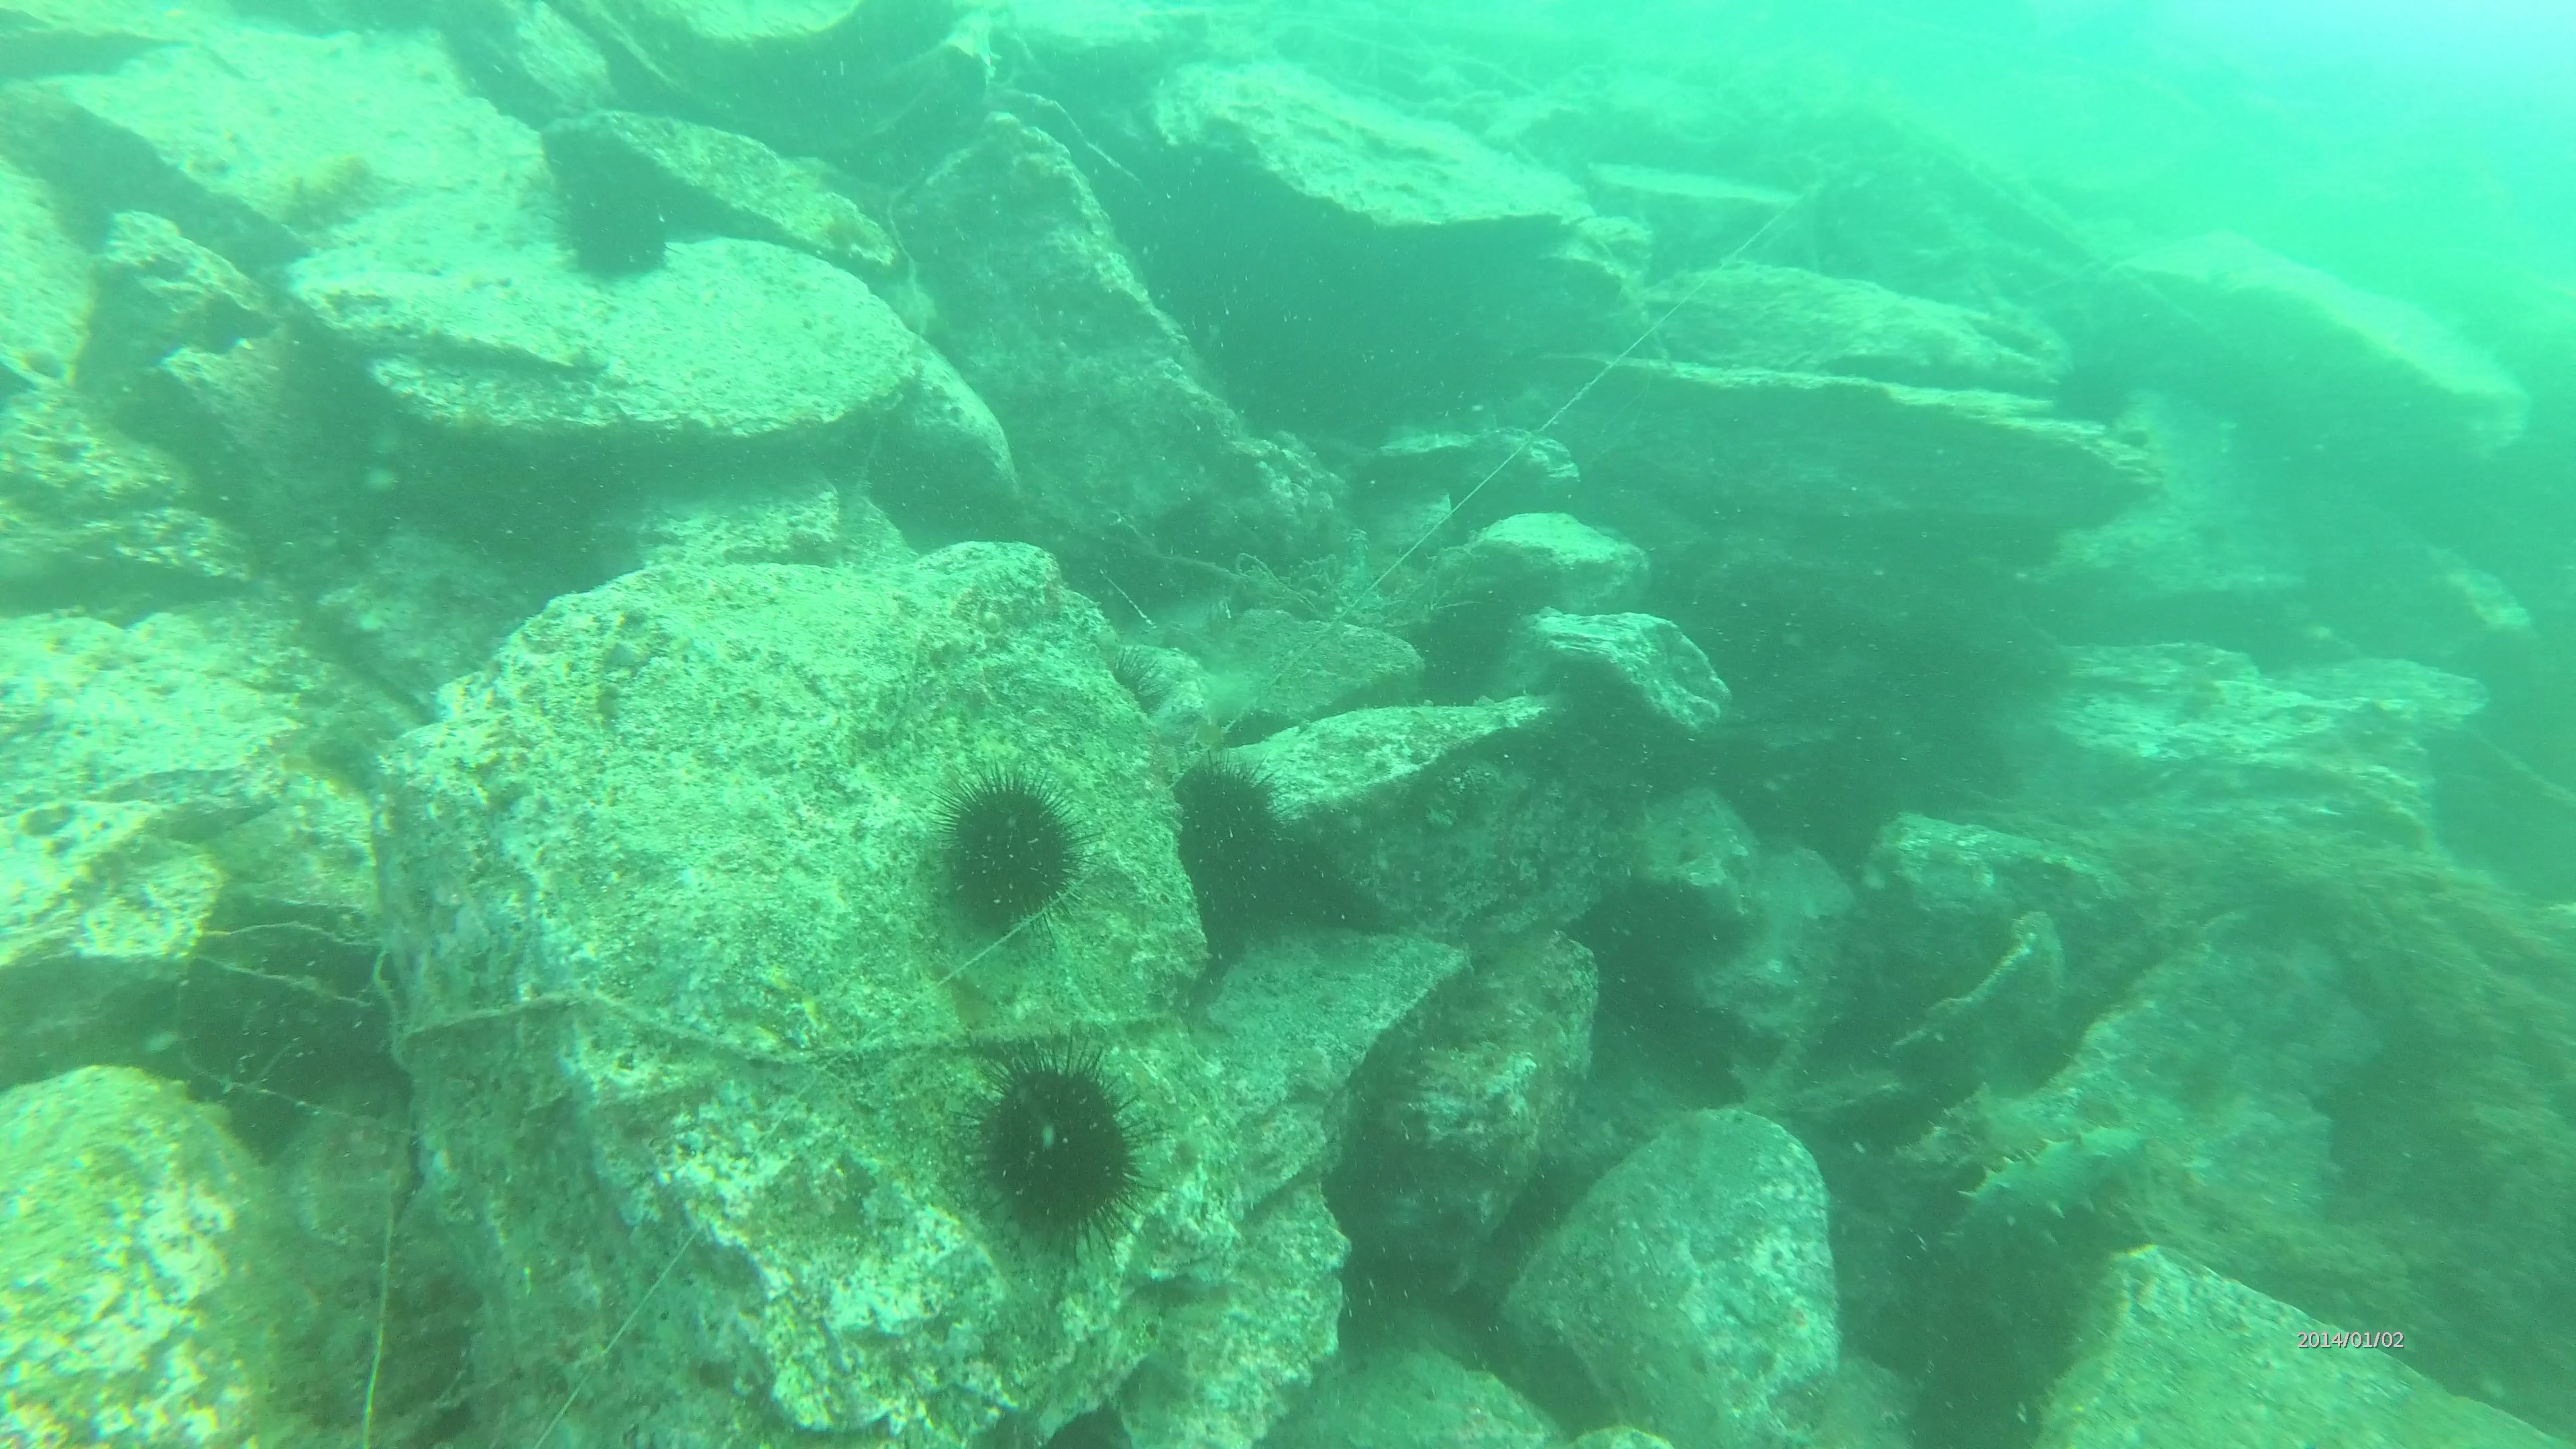echinus: (954, 1039, 1161, 1269), (922, 766, 1092, 924), (1162, 757, 1283, 915), (547, 170, 683, 280)
holothurian: (1932, 1115, 2148, 1309)
